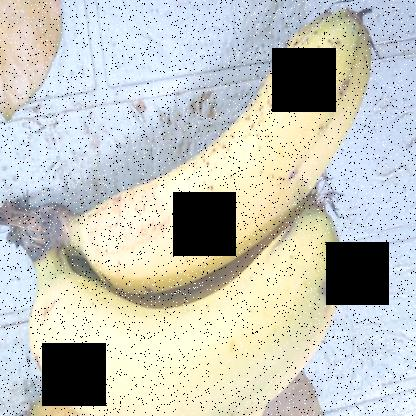freshripe: (32, 217, 348, 415)
ripe: (81, 0, 382, 273)
